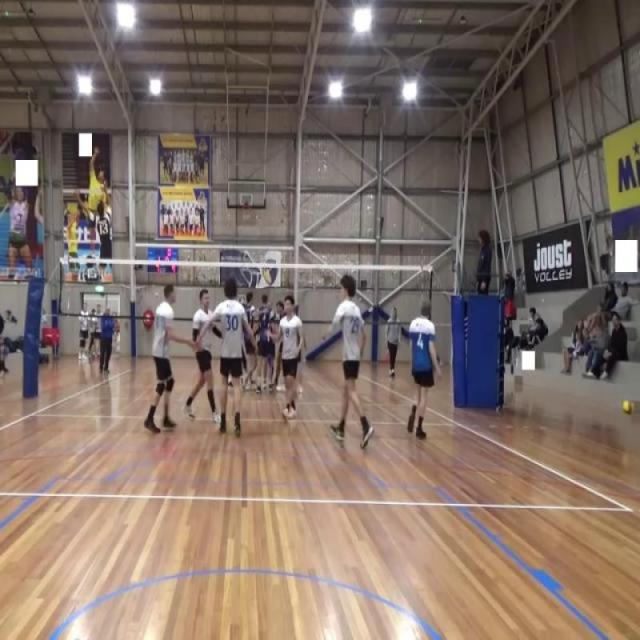volleyball: (622, 401, 634, 416)
